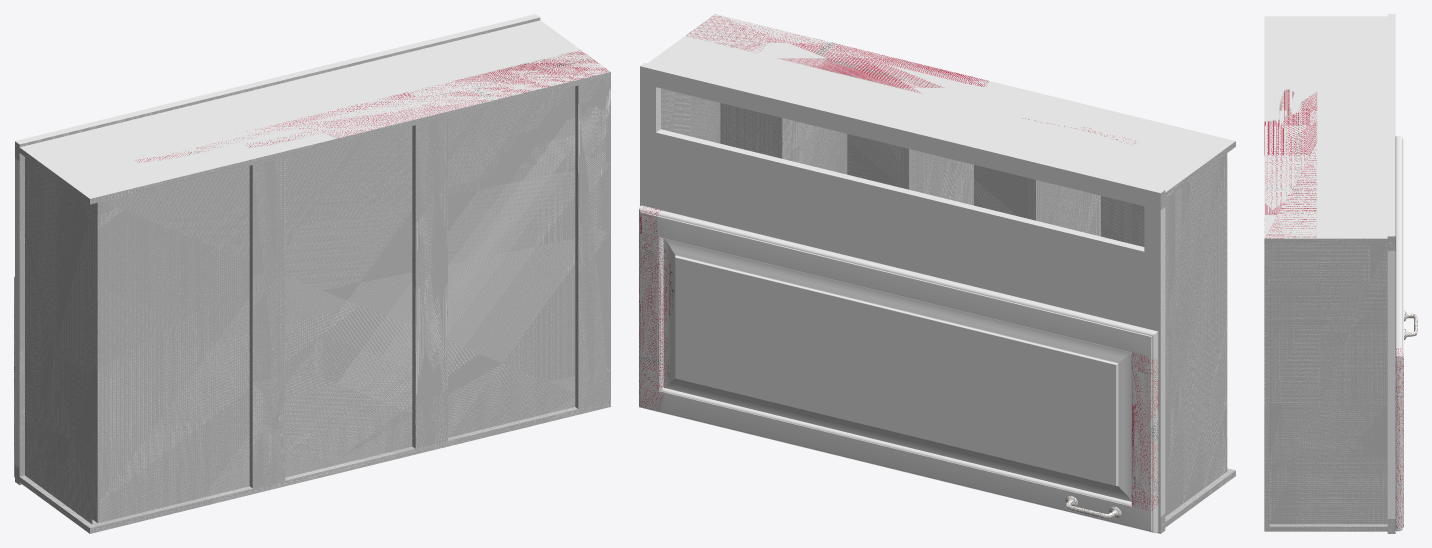
The picture shows the model from 3 angles, left to right: view 1: azimuth 30°, elevation 25°; view 2: azimuth 150°, elevation 25°; view 3: azimuth 270°, elevation 25°; orthographic projection. The views are drawn at different scales.
Parts seen in each view (by area): view 1: mesh6_mesh6-geometry, mesh8_mesh8-geometry, mesh3_mesh3-geometry, mesh1_mesh1-geometry, mesh7_mesh7-geometry, mesh9_mesh9-geometry, mesh4_mesh4-geometry, mesh2_mesh2-geometry, mesh25_mesh25-geometry; view 2: mesh22_mesh22-geometry, mesh11_mesh11-geometry, mesh8_mesh8-geometry, mesh1_mesh1-geometry, mesh20_mesh20-geometry, mesh19_mesh19-geometry, mesh9_mesh9-geometry, mesh12_mesh12-geometry, mesh5_mesh5-geometry, mesh4_mesh4-geometry, mesh18_mesh18-geometry, mesh17_mesh17-geometry (+5 smaller); view 3: mesh2_mesh2-geometry, mesh8_mesh8-geometry, mesh4_mesh4-geometry, mesh9_mesh9-geometry, mesh3_mesh3-geometry, mesh20_mesh20-geometry, mesh7_mesh7-geometry, mesh17_mesh17-geometry, mesh14_mesh14-geometry, mesh13_mesh13-geometry, mesh23_mesh23-geometry.
Boxes of the visible parts, x1,y1,x2,y2 form: mesh6_mesh6-geometry: [97, 86, 575, 523]; mesh8_mesh8-geometry: [19, 20, 610, 204]; mesh3_mesh3-geometry: [249, 77, 610, 488]; mesh1_mesh1-geometry: [25, 157, 92, 524]; mesh7_mesh7-geometry: [19, 401, 610, 533]; mesh9_mesh9-geometry: [15, 14, 540, 161]; mesh4_mesh4-geometry: [15, 158, 24, 467]; mesh2_mesh2-geometry: [92, 203, 97, 522]; mesh25_mesh25-geometry: [385, 348, 412, 452]; mesh22_mesh22-geometry: [676, 259, 1114, 483]; mesh11_mesh11-geometry: [656, 129, 1144, 327]; mesh8_mesh8-geometry: [648, 14, 1235, 197]; mesh1_mesh1-geometry: [661, 88, 1227, 516]; mesh20_mesh20-geometry: [676, 215, 1118, 365]; mesh19_mesh19-geometry: [676, 377, 1117, 523]; mesh9_mesh9-geometry: [640, 62, 1165, 210]; mesh12_mesh12-geometry: [774, 116, 1100, 236]; mesh5_mesh5-geometry: [720, 103, 1144, 246]; mesh4_mesh4-geometry: [640, 83, 1165, 516]; mesh18_mesh18-geometry: [1114, 366, 1158, 492]; mesh17_mesh17-geometry: [639, 249, 676, 376]; mesh2_mesh2-geometry: [1269, 243, 1387, 524]; mesh8_mesh8-geometry: [1264, 16, 1387, 243]; mesh4_mesh4-geometry: [1387, 251, 1395, 518]; mesh9_mesh9-geometry: [1387, 14, 1395, 250]; mesh3_mesh3-geometry: [1264, 243, 1269, 526]; mesh20_mesh20-geometry: [1395, 152, 1403, 341]; mesh7_mesh7-geometry: [1264, 524, 1387, 531]; mesh17_mesh17-geometry: [1395, 391, 1403, 495]; mesh14_mesh14-geometry: [1395, 339, 1403, 392]; mesh13_mesh13-geometry: [1395, 494, 1403, 531]; mesh23_mesh23-geometry: [1404, 310, 1417, 339].
Bounding box in the file's own units: 0.8232 × 0.5145 × 0.2401.
